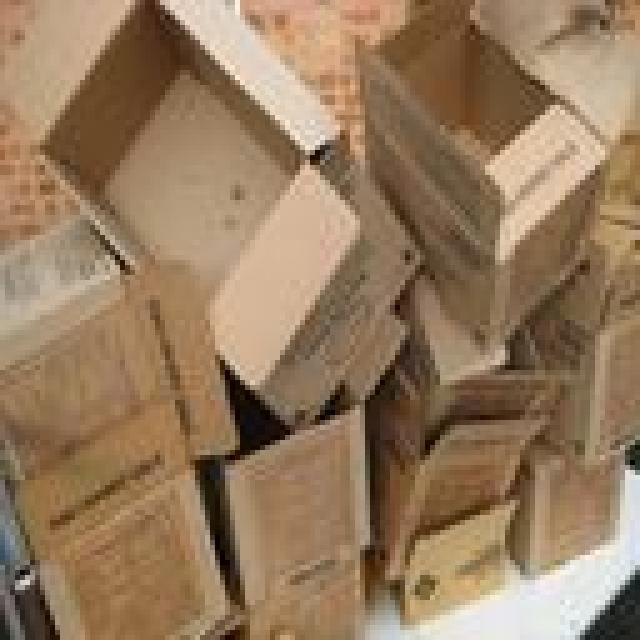Cardboard: (0, 0, 363, 389), (0, 82, 240, 547), (355, 0, 640, 346)
